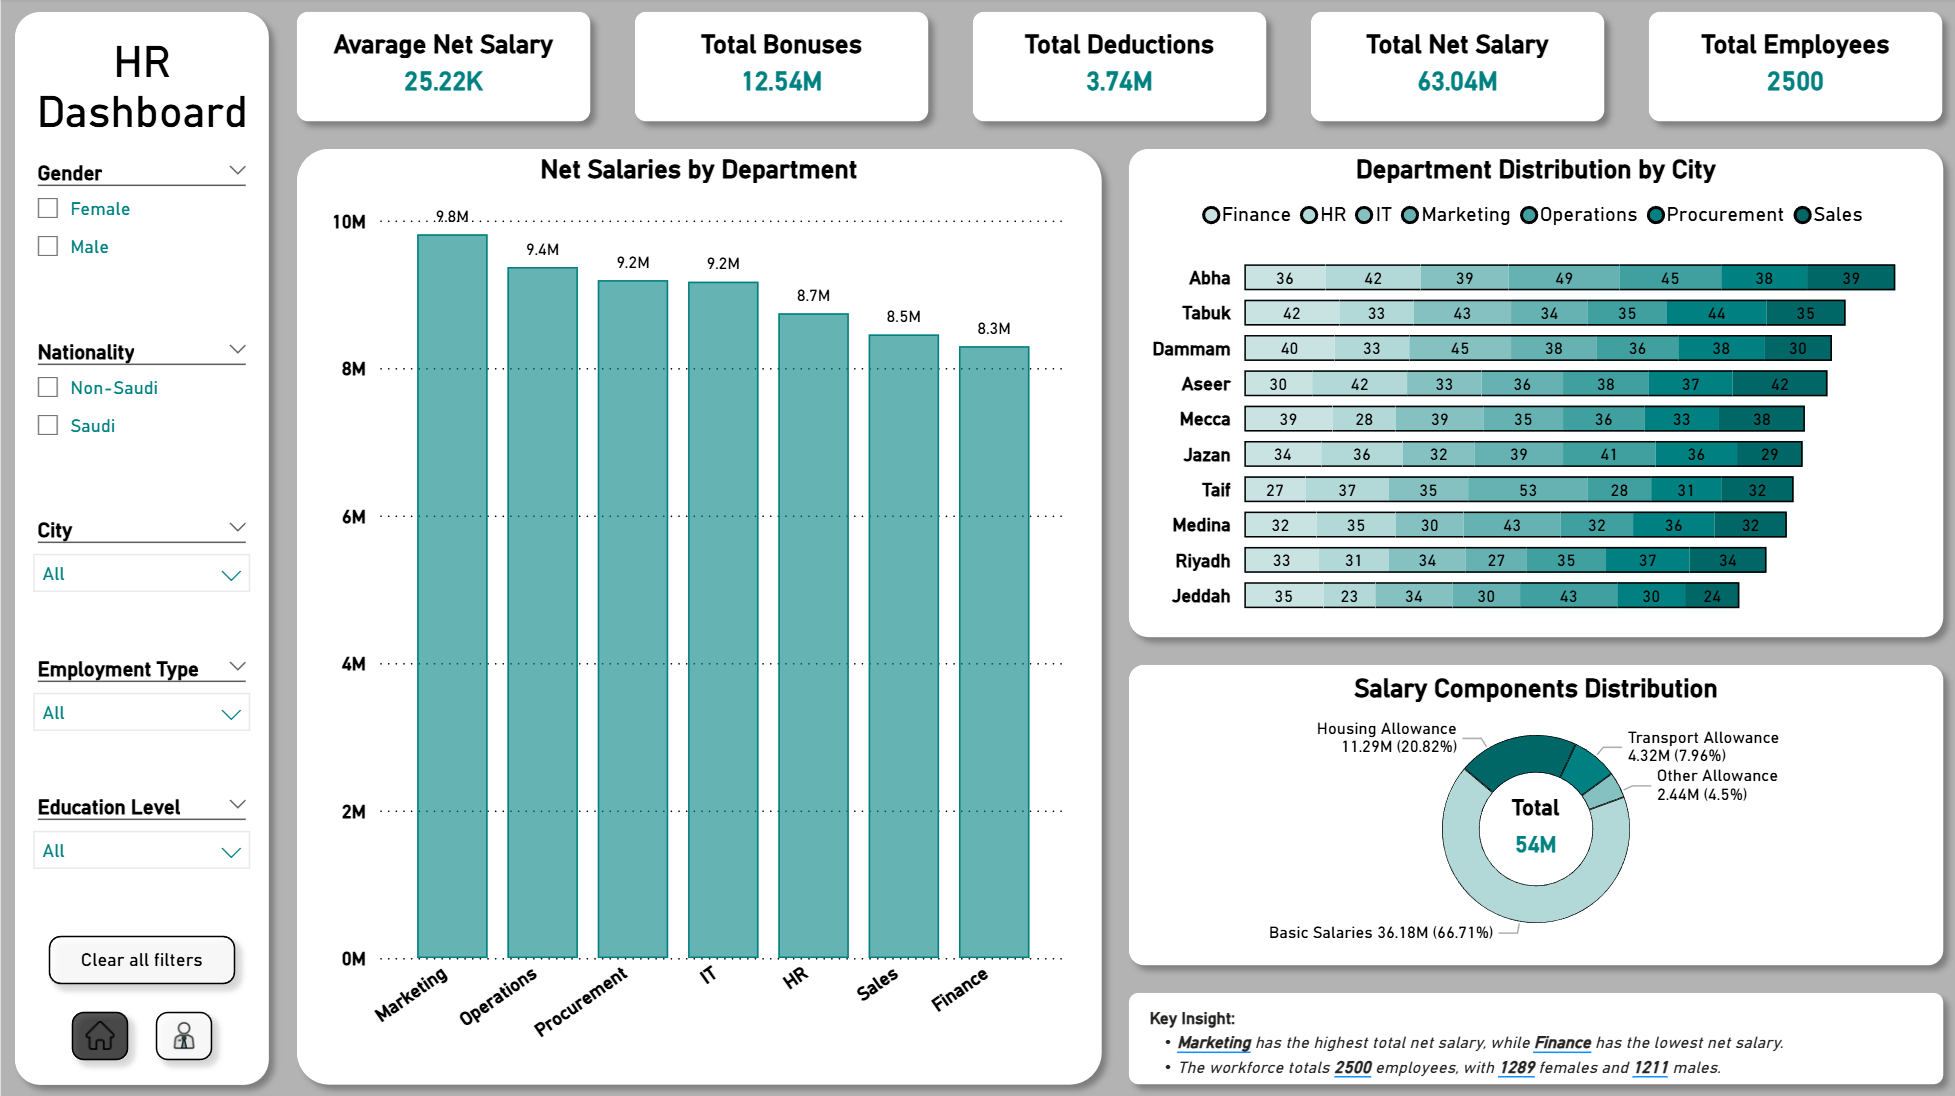

The page's visual inventory and layout, read from the dashboard file:
{"tool":"powerbi","page":{"name":"Home","canvas":[1280,720],"ordinal":0},"visuals":[{"type":"group","id":"g1","title":"Group 1","box":[184.5,0,1094.8,89.7],"z":0},{"type":"shape","box":[848.1,0,210.1,89.7],"z":0,"group":"g1"},{"type":"shape","box":[0,0,184.3,720.3],"z":1000},{"type":"shape","box":[1069.2,0,210.1,89.7],"z":1000,"group":"g1"},{"type":"textbox","box":[10.9,19.7,162.6,82.3],"z":2000},{"type":"shape","box":[184.3,89.8,544.8,630.5],"z":3000},{"type":"shape","box":[729,89.7,551,337.7],"z":4000},{"type":"shape","box":[729,427.3,551,214.6],"z":5000},{"type":"columnChart","title":"Net Salaries by Department","fields":{"Y":["Sum(Employees.Net_Salary)"],"Category":["Employees.Department"]},"box":[210.7,102.1,492.1,596.2],"z":6000},{"type":"slicer","fields":{"Values":["Employees.Gender"]},"box":[11.1,102.1,162.3,93.6],"z":7000},{"type":"slicer","fields":{"Values":["Employees.Nationality"]},"box":[11.1,219,162.3,93.6],"z":8000},{"type":"slicer","fields":{"Values":["Employees.Education_Level"]},"box":[11.1,517.2,162.3,66.7],"z":9000},{"type":"slicer","fields":{"Values":["Employees.Employment_Type"]},"box":[11.1,426.5,162.3,67.4],"z":10000},{"type":"barChart","title":"Department Distribution by City","fields":{"Y":["CountNonNull(Employees.Department)"],"Category":["Employees.City"],"Series":["Employees.Department"]},"box":[746.7,102.1,515.7,311.5],"z":11000},{"type":"card","title":"Total Employees","fields":{"Values":["CountNonNull(Employees.Employee_ID)"]},"box":[1096.8,20.3,155,49.7],"z":12000},{"type":"card","title":"Total Net Salary","fields":{"Values":["Sum(Employees.Net_Salary)"]},"box":[875.6,20.3,155.1,49.7],"z":13000},{"type":"donutChart","title":"Salary Components Distribution","fields":{"Y":["Sum(Employees.Basic_Salary)","Sum(Employees.Housing_Allowance)","Sum(Employees.Transport_Allowance)","Sum(Employees.Other_Allowance)"]},"box":[746.7,441.7,515.7,185.2],"z":14000},{"type":"card","title":"Total Deductions","fields":{"Values":["Sum(Employees.Deductions)"]},"box":[654.4,20.3,155.1,49.7],"z":15000},{"type":"shape","box":[184.5,0,210.1,89.7],"z":16000,"group":"g1"},{"type":"card","title":"Total Bonuses","fields":{"Values":["Sum(Employees.Bonus)"]},"box":[433.2,20.3,155.1,49.7],"z":16000},{"type":"shape","box":[405.7,0,210.1,89.7],"z":17000,"group":"g1"},{"type":"card","title":"Avarage Net Salary","fields":{"Values":["Avg(Employees.Net_Salary)"]},"box":[206.1,20.3,166.9,49.7],"z":17000},{"type":"shape","box":[626.9,0,210.1,89.7],"z":18000,"group":"g1"},{"type":"slicer","fields":{"Values":["Employees.City"]},"box":[11.1,335.8,162.3,67.4],"z":18000},{"type":"card","title":"Total","fields":{"Values":["Employees.Total Compensation"]},"box":[980.9,521.6,46.5,50.4],"z":19000},{"type":"shape","box":[729,642,551,77.9],"z":20000},{"type":"textbox","box":[746.7,652.4,515.7,67.4],"z":21000},{"type":"actionButton","box":[22.2,604.7,140,49.7],"z":22000},{"type":"actionButton","box":[37.3,654.4,55,49.7],"z":23000},{"type":"actionButton","box":[92.3,654.4,55,49.7],"z":24000}]}

Visuals, with their boxes in screenshot pixels (x1, y1, x2, y2), scaled from the page's 1280x720 canvas onto the 1955x1096 screenshot:
"Group 1" group: (x1=282, y1=0, x2=1954, y2=137)
shape: (x1=1295, y1=0, x2=1616, y2=137)
shape: (x1=0, y1=0, x2=281, y2=1095)
shape: (x1=1633, y1=0, x2=1954, y2=137)
textbox: (x1=17, y1=30, x2=265, y2=155)
shape: (x1=281, y1=137, x2=1114, y2=1095)
shape: (x1=1113, y1=137, x2=1954, y2=651)
shape: (x1=1113, y1=650, x2=1954, y2=977)
"Net Salaries by Department" columnChart: (x1=322, y1=155, x2=1073, y2=1063)
slicer - Employees.Gender: (x1=17, y1=155, x2=265, y2=298)
slicer - Employees.Nationality: (x1=17, y1=333, x2=265, y2=476)
slicer - Employees.Education_Level: (x1=17, y1=787, x2=265, y2=889)
slicer - Employees.Employment_Type: (x1=17, y1=649, x2=265, y2=752)
"Department Distribution by City" barChart: (x1=1140, y1=155, x2=1928, y2=630)
"Total Employees" card: (x1=1675, y1=31, x2=1912, y2=107)
"Total Net Salary" card: (x1=1337, y1=31, x2=1574, y2=107)
"Salary Components Distribution" donutChart: (x1=1140, y1=672, x2=1928, y2=954)
"Total Deductions" card: (x1=999, y1=31, x2=1236, y2=107)
shape: (x1=282, y1=0, x2=603, y2=137)
"Total Bonuses" card: (x1=662, y1=31, x2=899, y2=107)
shape: (x1=620, y1=0, x2=941, y2=137)
"Avarage Net Salary" card: (x1=315, y1=31, x2=570, y2=107)
shape: (x1=957, y1=0, x2=1278, y2=137)
slicer - Employees.City: (x1=17, y1=511, x2=265, y2=614)
"Total" card: (x1=1498, y1=794, x2=1569, y2=871)
shape: (x1=1113, y1=977, x2=1954, y2=1095)
textbox: (x1=1140, y1=993, x2=1928, y2=1095)
actionButton: (x1=34, y1=920, x2=248, y2=996)
actionButton: (x1=57, y1=996, x2=141, y2=1072)
actionButton: (x1=141, y1=996, x2=225, y2=1072)
